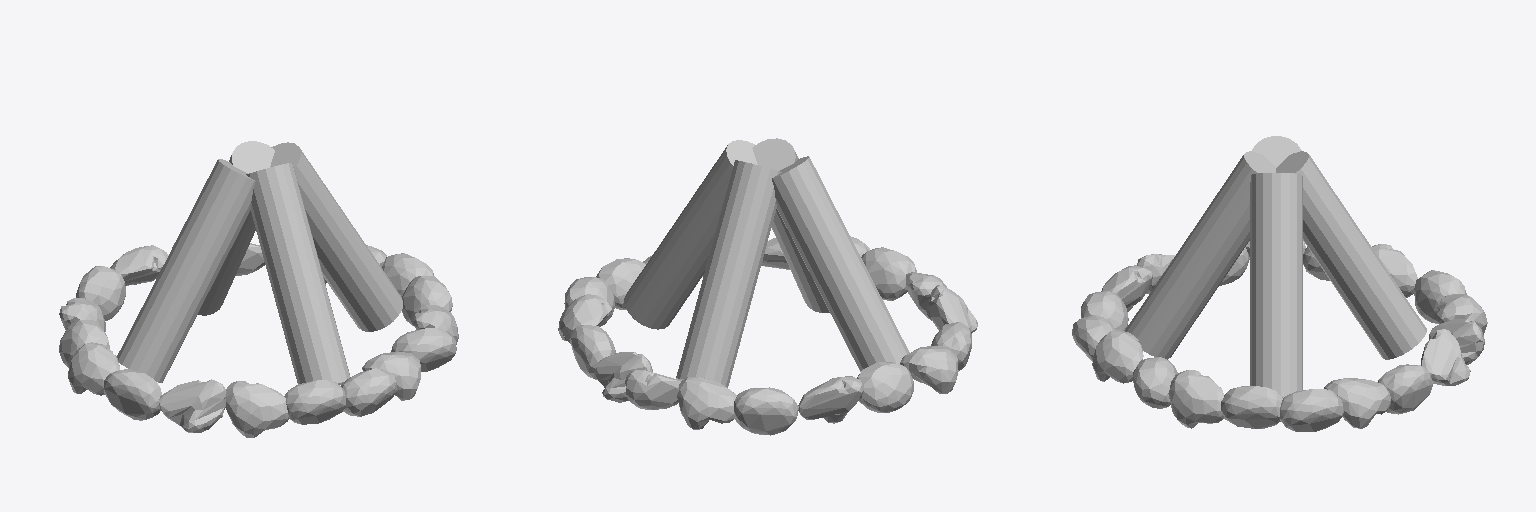
Rendered from Fogata.obj.
3 views of the same model, side by side, from view 1: azimuth 30°, elevation 25°; view 2: azimuth 150°, elevation 25°; view 3: azimuth 270°, elevation 25° (orthographic).
Visible parts, largest first — view 1: Madera, Piedras; view 2: Madera, Piedras; view 3: Madera, Piedras.
Boxes of the visible parts, box(x1,y1,x2,y2) form: Madera: box(117, 141, 402, 384); Piedras: box(59, 243, 458, 437); Madera: box(624, 138, 909, 387); Piedras: box(558, 236, 977, 435); Madera: box(1126, 136, 1426, 397); Piedras: box(1072, 241, 1487, 431).
Size of the model in its own units: 0.6929 by 0.3659 by 0.6728.